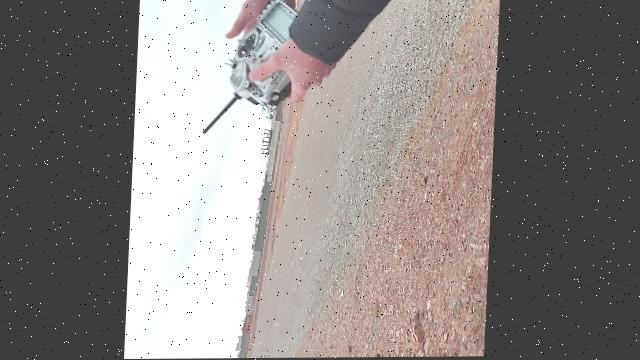drone: (263, 340, 277, 358)
